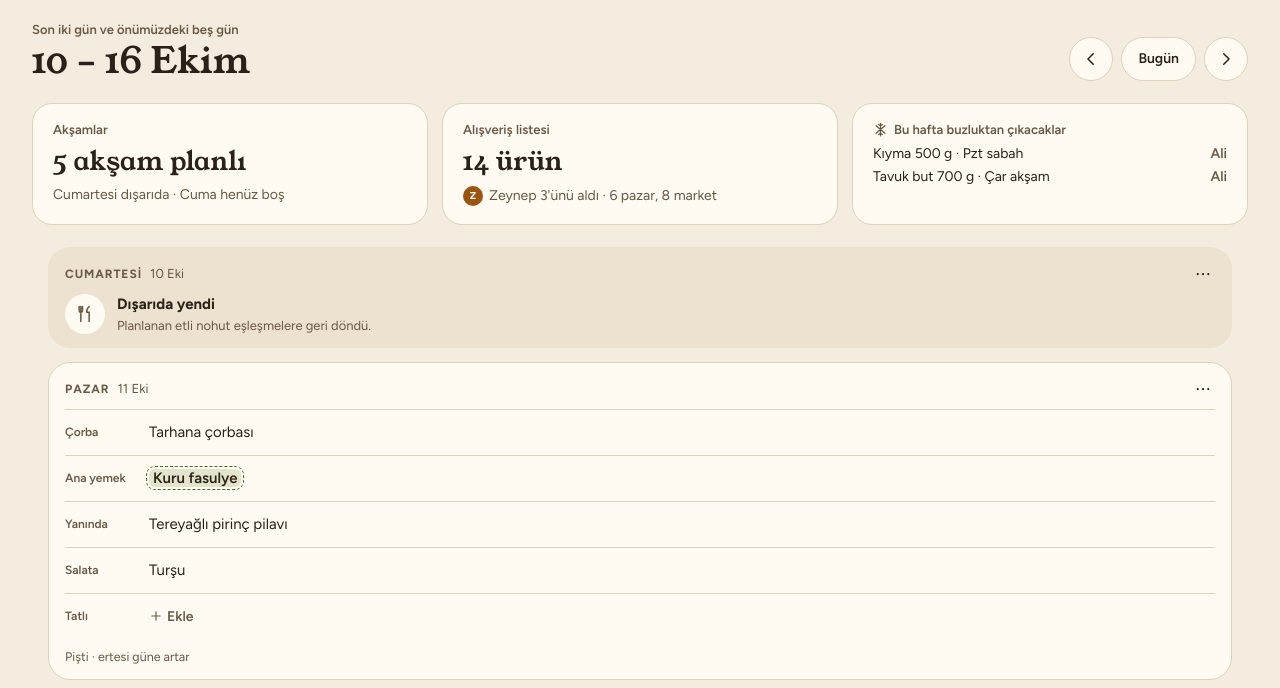
Test: Hafta (mobile list) › navigates weeks
Step 1. Click the button named "Sonraki hafta" → (1226, 59), box [1204, 37, 1248, 81]
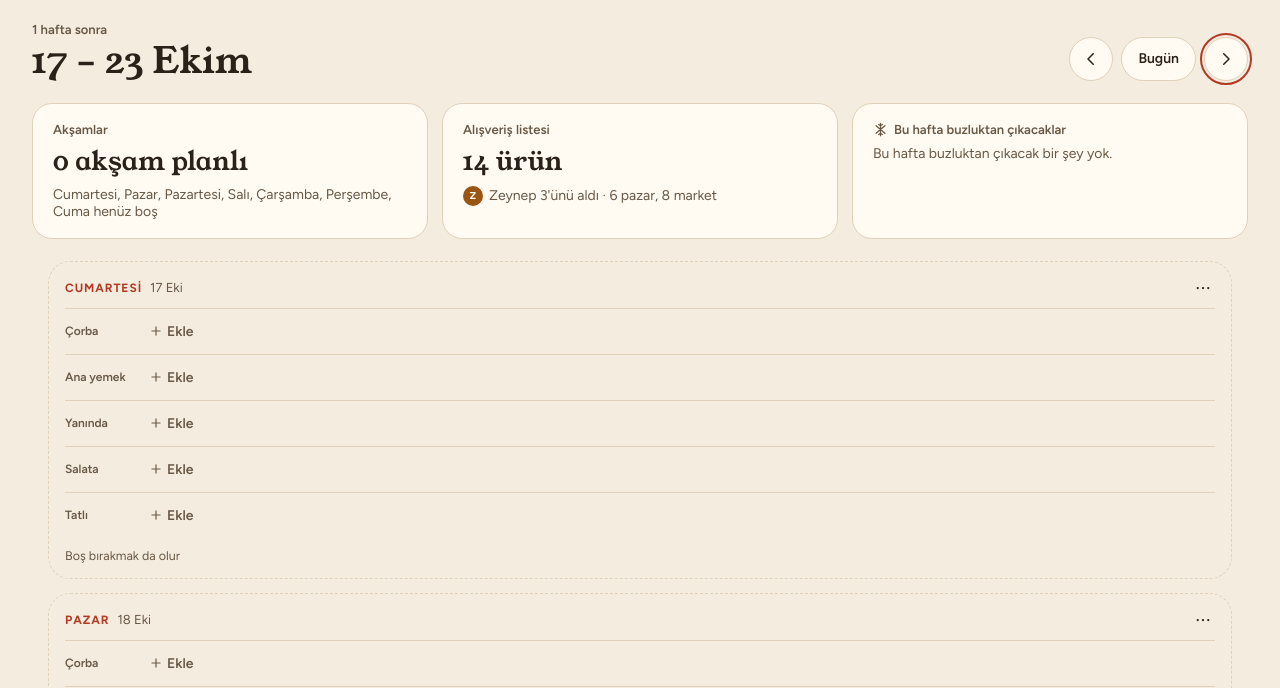
Result: the heading "17 – 23 Ekim" is shown at [32, 41, 252, 81]
Step 2. Click the button with aria-label "Bu haftaya dön" → (1159, 59), box [1121, 37, 1196, 81]
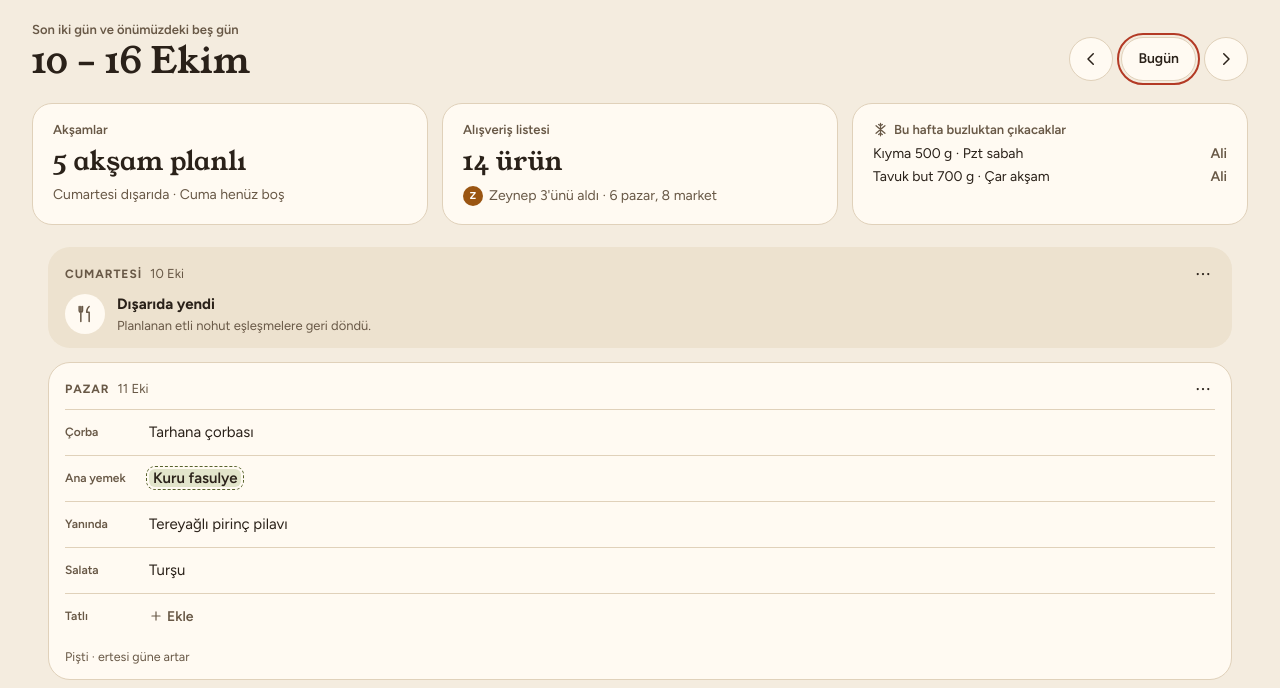
Result: the heading "10 – 16 Ekim" is shown at [32, 41, 250, 81]
